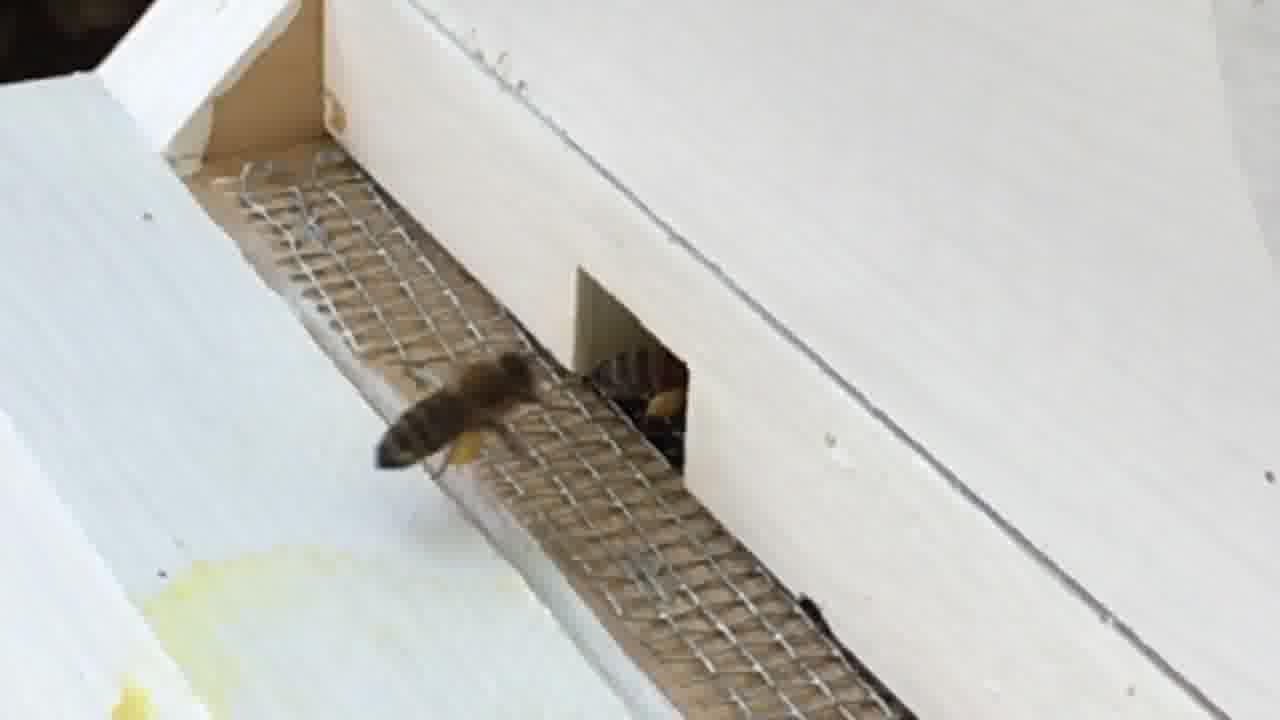pollen: (362, 354, 557, 477)
